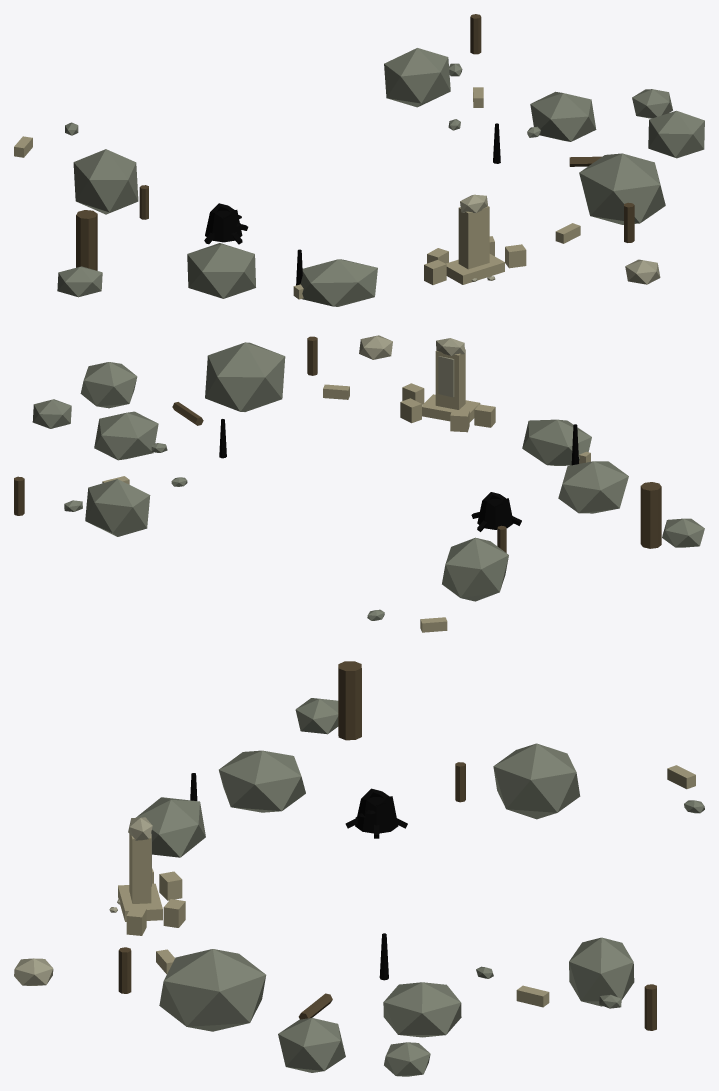
File: side_wardens_clearing_solid_props.fbx
3 views of the same model, one above another, from view 1: azimuth 30°, elevation 25°; view 2: azimuth 150°, elevation 25°; view 3: azimuth 270°, elevation 25° (orthographic). The views are drawn at different scales.
Parts seen in each view (by area): view 1: chunk_side_wardens_clearing__PropsSolid; view 2: chunk_side_wardens_clearing__PropsSolid; view 3: chunk_side_wardens_clearing__PropsSolid.
Part boxes in pixels (left/top/right/bottom): chunk_side_wardens_clearing__PropsSolid: left=14, top=14, right=704, bottom=306; chunk_side_wardens_clearing__PropsSolid: left=14, top=335, right=704, bottom=632; chunk_side_wardens_clearing__PropsSolid: left=14, top=661, right=704, bottom=1076.
Bounding box in the file's own units: 227 × 32.62 × 181.
